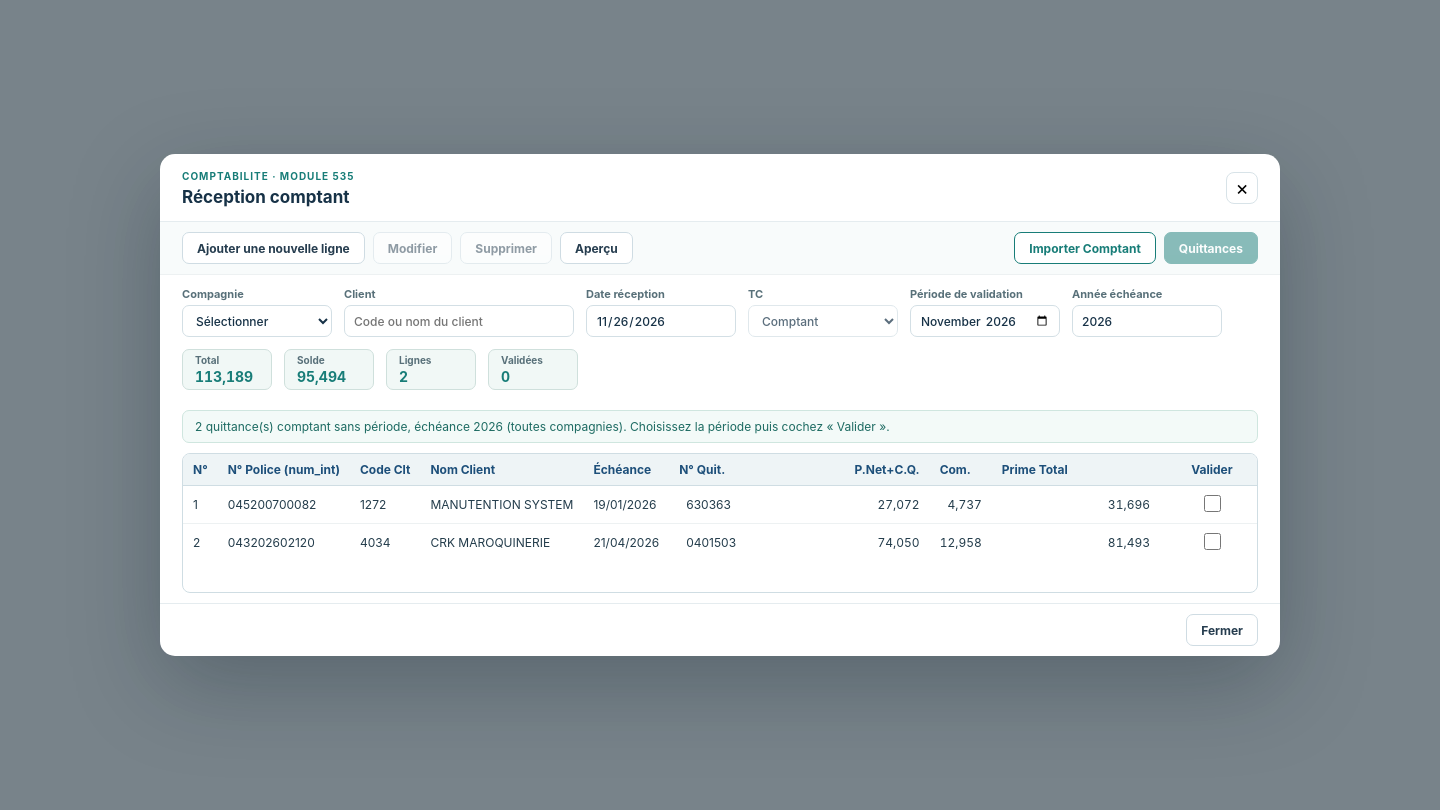
Test: comptant: the lines are filtered by code or name of the client
The image size is (1440, 810).
Expected: the text "MANUTENTION SYSTEM" is shown, [420,486,583,524]
Type "crk" into the search field with placeholder "Code ou nom du client" at (459, 321), box [344,305,574,337]
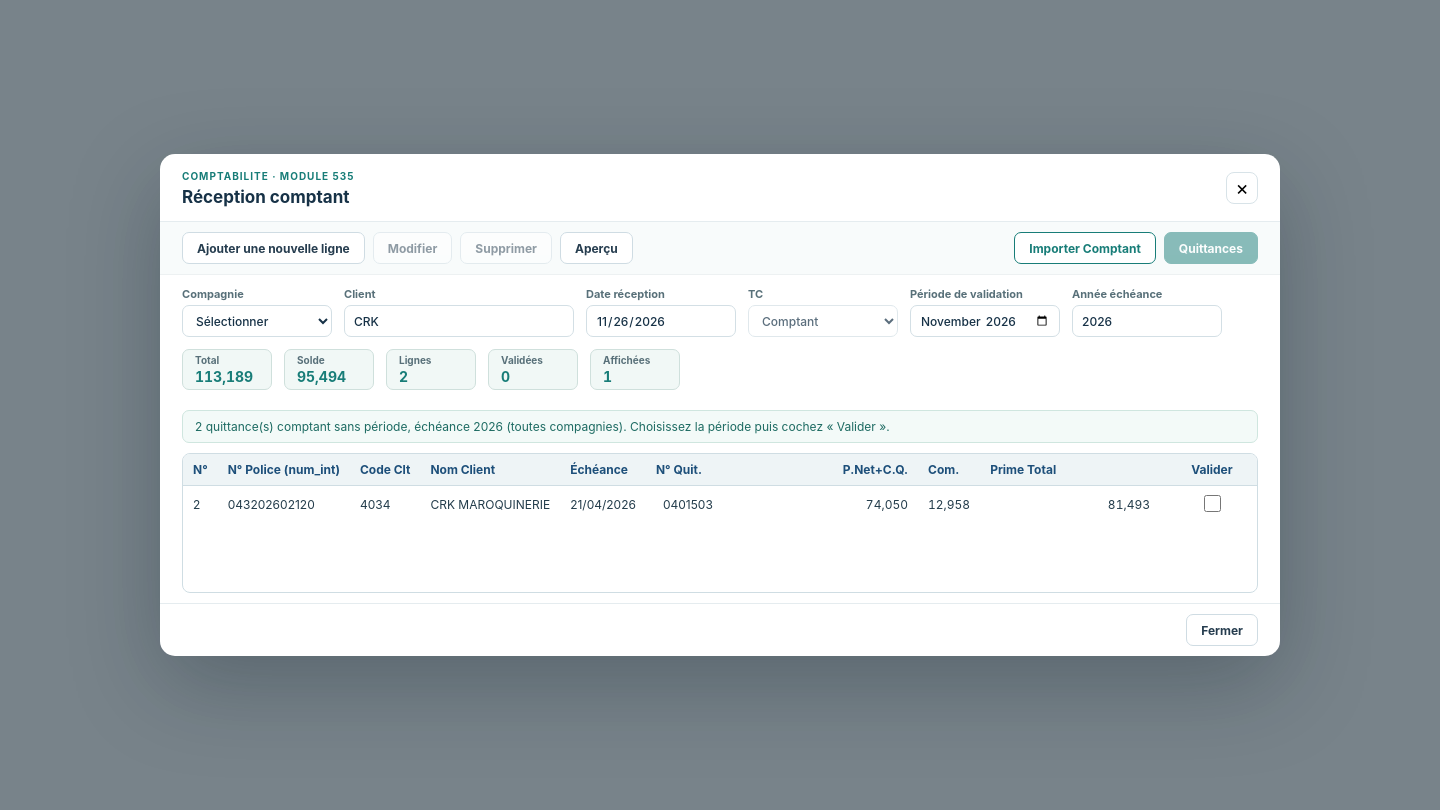
Expected: the text "CRK MAROQUINERIE" is shown, [420,486,560,523]
Expected: the text "MANUTENTION SYSTEM" is gone
Replace the text in the search field with placeholder "Code ou nom du client" with "1272" at (459, 321), box [344,305,574,337]
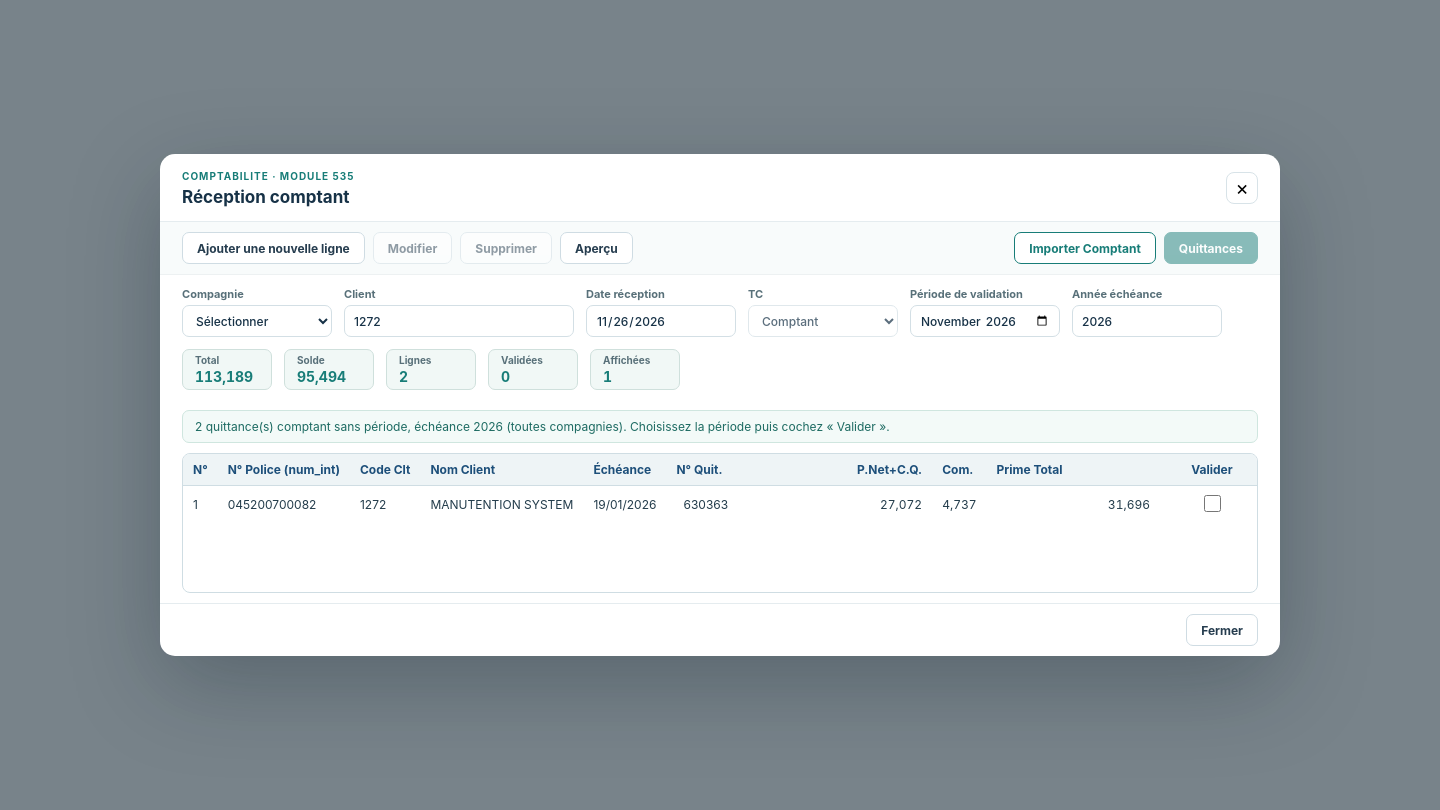
Expected: the text "MANUTENTION SYSTEM" is shown, [420,486,583,523]
Expected: the text "CRK MAROQUINERIE" is gone
